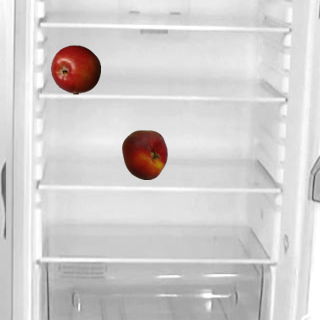Apple Braeburn: (50, 44, 100, 94)
Nectarine Flat: (119, 129, 169, 179)
